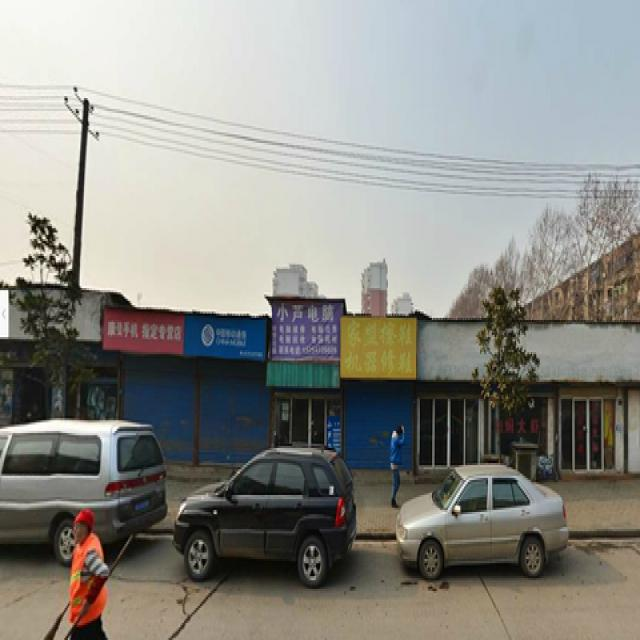magn: (472, 290, 541, 467)
